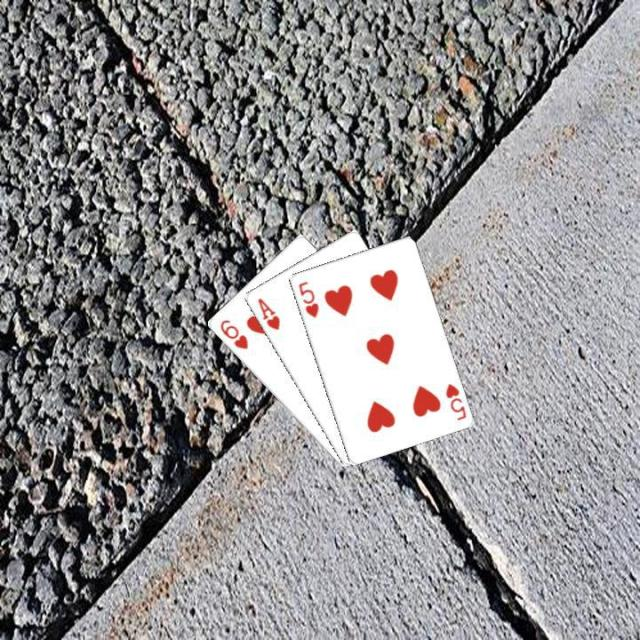5H: (294, 277, 320, 319), (441, 380, 467, 422)
6H: (216, 316, 250, 351)
AH: (253, 294, 282, 332)
